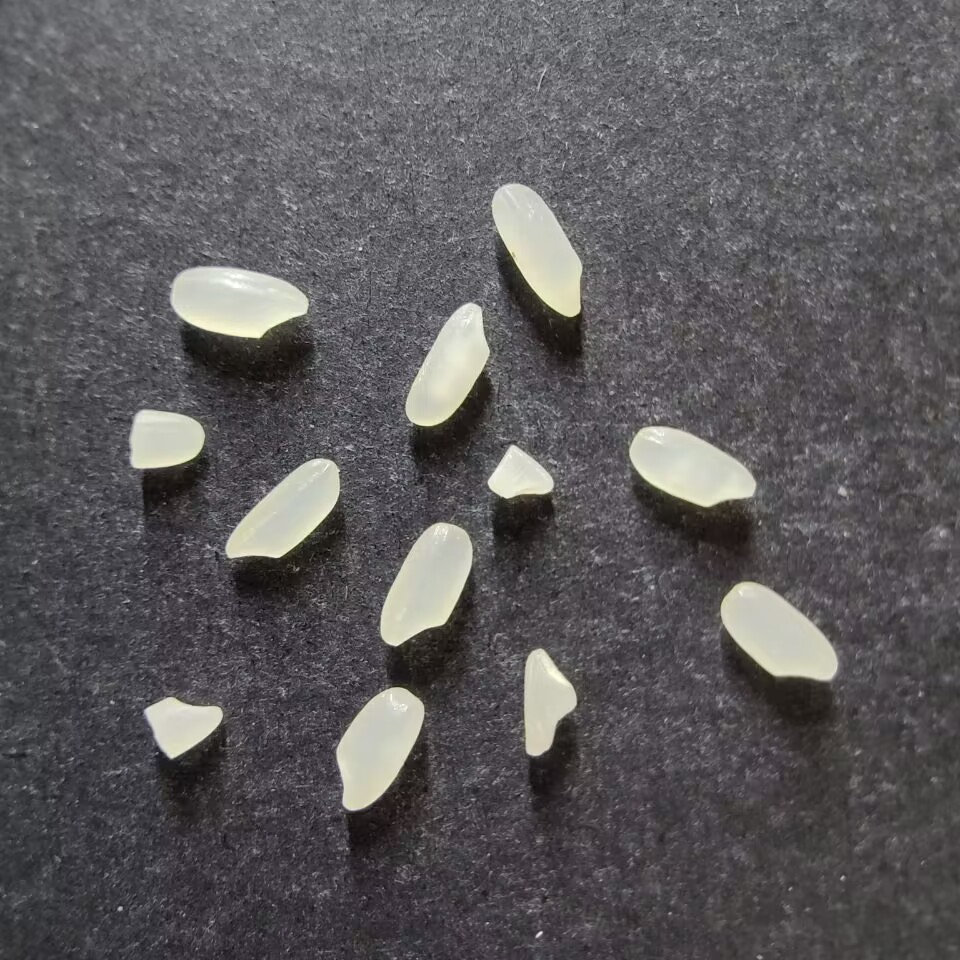broken: (522, 647, 577, 757), (142, 696, 223, 760), (129, 409, 205, 470), (486, 444, 554, 498)
rice: (490, 181, 584, 318), (224, 457, 341, 560), (719, 581, 838, 681), (379, 522, 472, 646), (335, 687, 425, 811), (404, 303, 491, 427), (628, 425, 756, 508), (169, 265, 308, 339)
